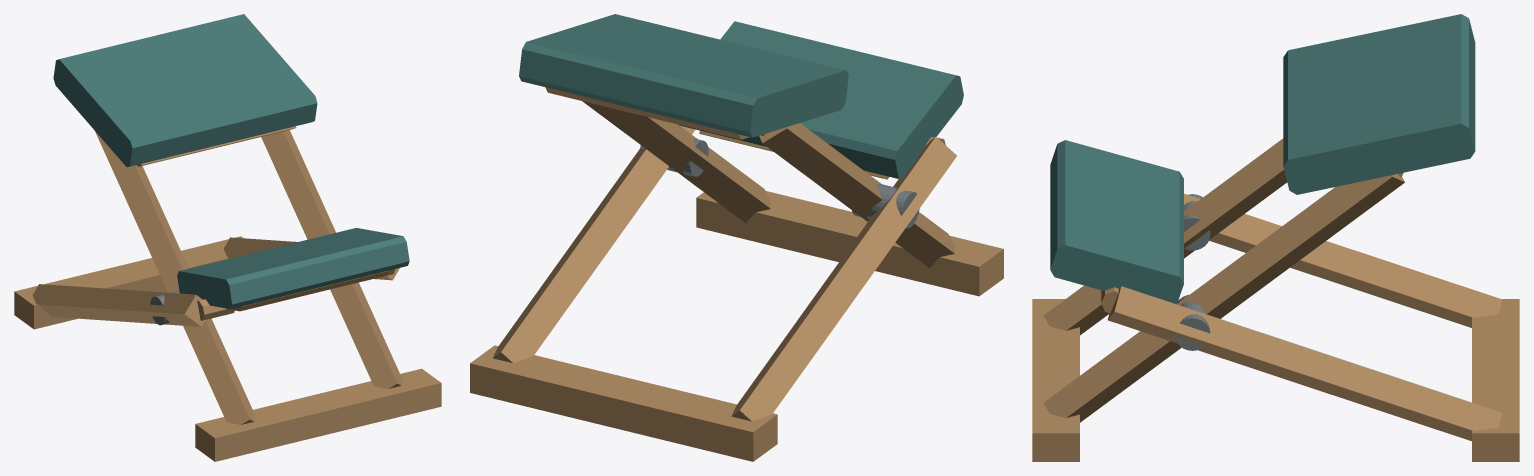
The picture shows the model from 3 angles, left to right: view 1: azimuth 30°, elevation 25°; view 2: azimuth 150°, elevation 25°; view 3: azimuth 270°, elevation 25°; orthographic projection. The views are drawn at different scales.
Visible parts, largest first — view 1: WholeInclinedUpperSeat, WholeCounterInclinedLowerKneePad, WholeFrontGroundFoot, LeftWholeFrontFootToSeatMember, RightWholeFrontFootToSeatMember, LeftWholeRearFootToKneeMember, WholeRearGroundFoot, RightWholeRearFootToKneeMember, WholeLowerKneeUndersupport, WholeUpperSeatUndersupport, LeftWholeKneeEndTie; view 2: WholeInclinedUpperSeat, WholeRearGroundFoot, WholeCounterInclinedLowerKneePad, LeftWholeRearFootToKneeMember, WholeFrontGroundFoot, RightWholeRearFootToKneeMember, LeftWholeFrontFootToSeatMember, RightWholeFrontFootToSeatMember, WholeUpperSeatUndersupport, LeftFixedCrossingPin; view 3: WholeInclinedUpperSeat, WholeCounterInclinedLowerKneePad, RightWholeRearFootToKneeMember, RightWholeFrontFootToSeatMember, LeftWholeRearFootToKneeMember, WholeRearGroundFoot, LeftWholeFrontFootToSeatMember, WholeFrontGroundFoot, RightFixedCrossingPin, LeftFixedCrossingPin.
Boxes of the visible parts, left/top/right/bottom form: WholeInclinedUpperSeat: left=53, top=14, right=317, bottom=167; WholeCounterInclinedLowerKneePad: left=177, top=228, right=409, bottom=309; WholeFrontGroundFoot: left=195, top=368, right=441, bottom=461; LeftWholeFrontFootToSeatMember: left=95, top=131, right=254, bottom=424; RightWholeFrontFootToSeatMember: left=261, top=130, right=402, bottom=388; LeftWholeRearFootToKneeMember: left=32, top=284, right=205, bottom=326; WholeRearGroundFoot: left=14, top=236, right=243, bottom=329; RightWholeRearFootToKneeMember: left=223, top=237, right=399, bottom=280; WholeLowerKneeUndersupport: left=226, top=270, right=388, bottom=311; WholeUpperSeatUndersupport: left=137, top=126, right=296, bottom=166; LeftWholeKneeEndTie: left=197, top=299, right=234, bottom=320; WholeInclinedUpperSeat: left=519, top=14, right=848, bottom=137; WholeRearGroundFoot: left=470, top=345, right=777, bottom=461; WholeCounterInclinedLowerKneePad: left=679, top=21, right=963, bottom=179; LeftWholeRearFootToKneeMember: left=731, top=136, right=956, bottom=421; WholeFrontGroundFoot: left=696, top=191, right=1003, bottom=296; RightWholeRearFootToKneeMember: left=493, top=125, right=695, bottom=363; LeftWholeFrontFootToSeatMember: left=759, top=123, right=954, bottom=267; RightWholeFrontFootToSeatMember: left=582, top=101, right=770, bottom=223; WholeUpperSeatUndersupport: left=545, top=87, right=749, bottom=139; LeftFixedCrossingPin: left=852, top=183, right=919, bottom=228; WholeInclinedUpperSeat: left=1283, top=14, right=1475, bottom=194; WholeCounterInclinedLowerKneePad: left=1050, top=140, right=1183, bottom=304; RightWholeRearFootToKneeMember: left=1107, top=286, right=1502, bottom=441; RightWholeFrontFootToSeatMember: left=1044, top=174, right=1404, bottom=422; LeftWholeRearFootToKneeMember: left=1184, top=193, right=1502, bottom=327; WholeRearGroundFoot: left=1472, top=299, right=1519, bottom=461; LeftWholeFrontFootToSeatMember: left=1043, top=138, right=1286, bottom=335; WholeFrontGroundFoot: left=1032, top=299, right=1079, bottom=461; RightFixedCrossingPin: left=1174, top=294, right=1210, bottom=350; LeftFixedCrossingPin: left=1184, top=194, right=1210, bottom=250.
Size of the model in its own units: 0.6 by 0.6793 by 0.92.
